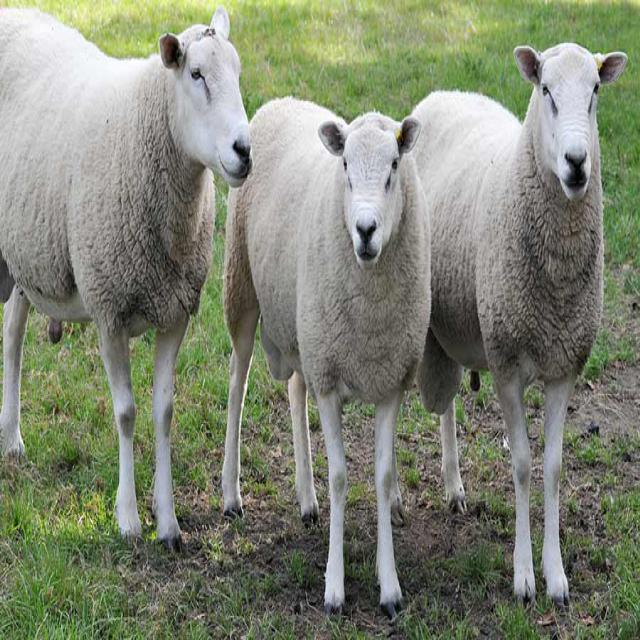Sheep: (0, 3, 255, 549), (398, 39, 620, 605), (223, 92, 432, 612)
